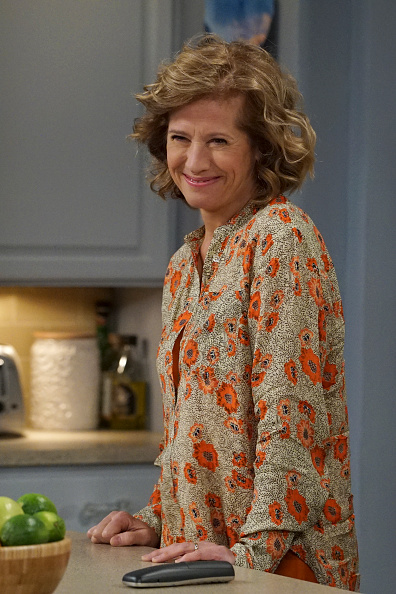em pe: (79, 52, 317, 582)
